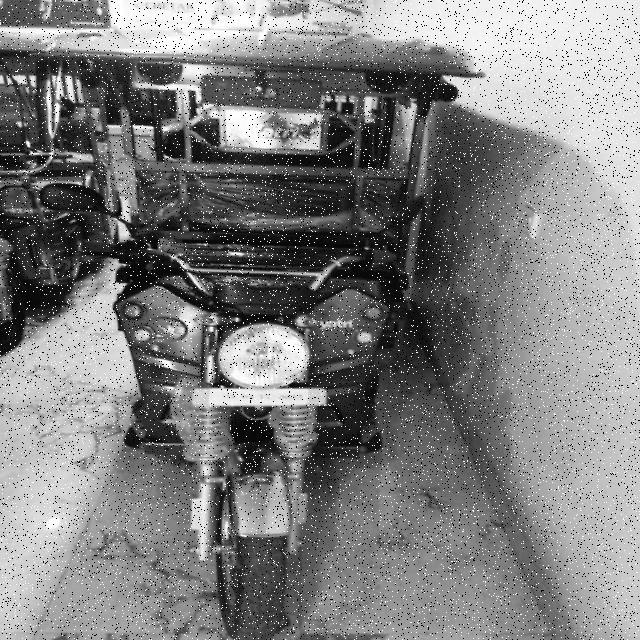Toto: (55, 14, 472, 640)
